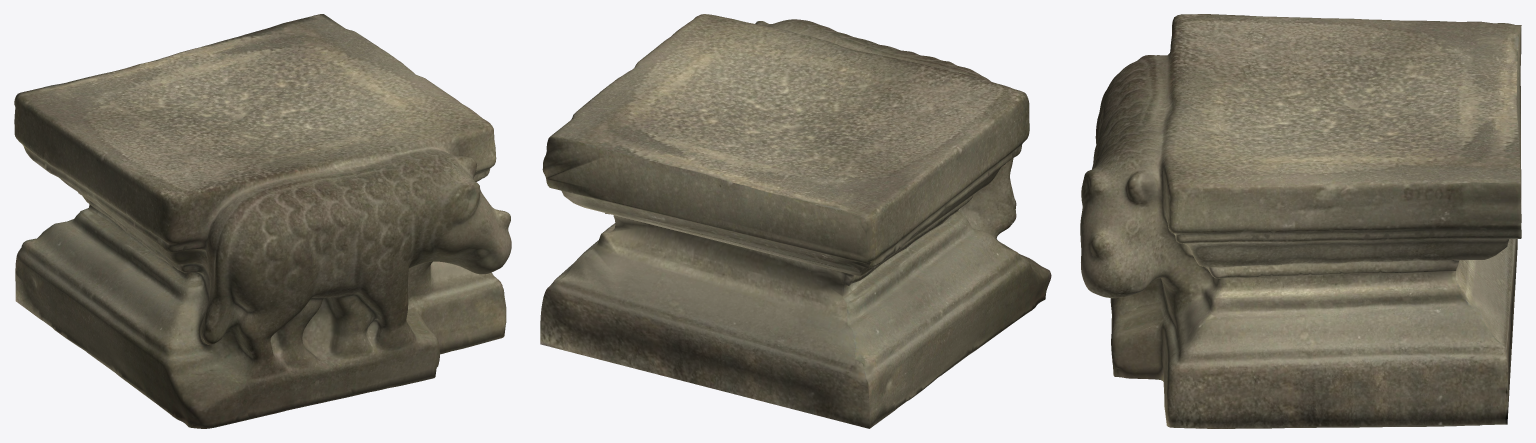
File: 11_tegiac_final.glb
The picture shows the model from 3 angles, left to right: view 1: azimuth 30°, elevation 25°; view 2: azimuth 150°, elevation 25°; view 3: azimuth 270°, elevation 25°; orthographic projection. The views are drawn at different scales.
Bounding box in the file's own units: 0.345 × 0.2118 × 0.3539.
1 material, 1 textured.
